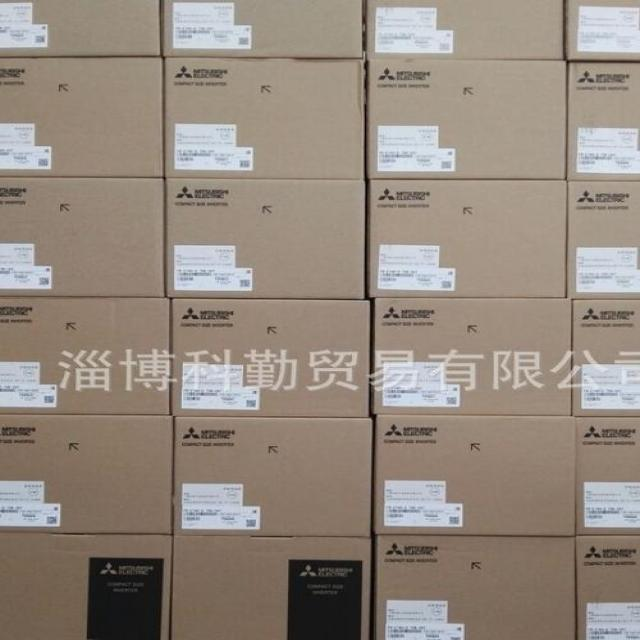box: (372, 414, 579, 539), (369, 296, 576, 418), (163, 57, 369, 178), (369, 56, 568, 179), (165, 177, 368, 297), (173, 414, 373, 535), (172, 297, 373, 417), (368, 178, 568, 298), (371, 535, 579, 639), (1, 412, 176, 534), (174, 534, 374, 639), (2, 297, 177, 415), (0, 177, 167, 297), (0, 57, 165, 176), (1, 531, 174, 639), (364, 2, 566, 59), (162, 2, 367, 57), (0, 0, 162, 58), (567, 178, 639, 299), (568, 60, 639, 182), (576, 416, 639, 538), (575, 297, 639, 417), (577, 536, 639, 639), (565, 2, 639, 61)
